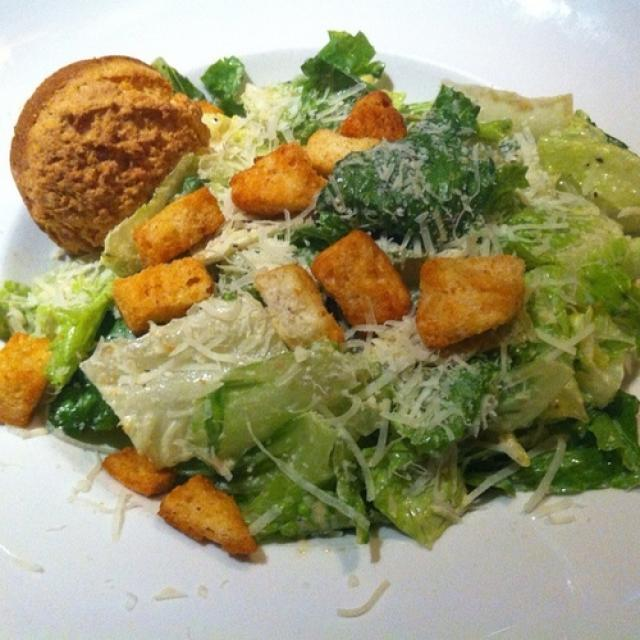蔬菜料理: (1, 3, 638, 618)
